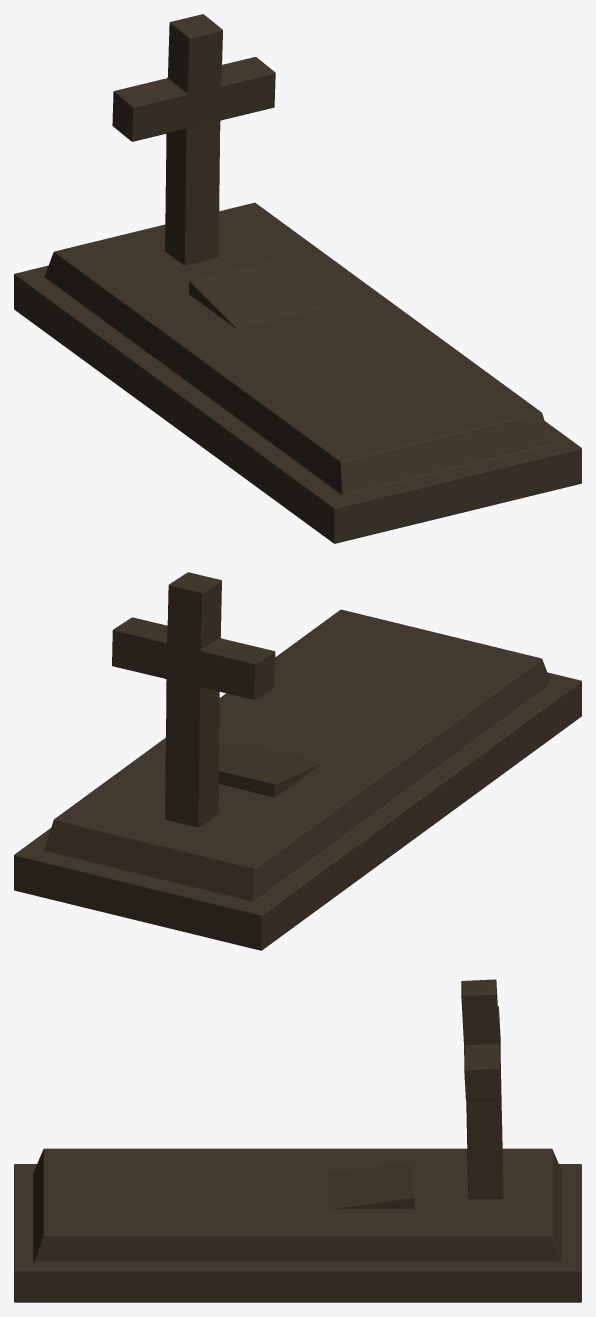
3 views of the same model, one above another, from view 1: azimuth 30°, elevation 25°; view 2: azimuth 150°, elevation 25°; view 3: azimuth 270°, elevation 25° (orthographic). The views are drawn at different scales.
Parts seen in each view (by area): view 1: Cube.001; view 2: Cube.001; view 3: Cube.001.
Part boxes in pixels (bbox=[...]): Cube.001: bbox=[14, 14, 581, 543]; Cube.001: bbox=[14, 572, 581, 950]; Cube.001: bbox=[14, 979, 581, 1302].
Size of the model in its own units: 1440 by 1647 by 3225.
